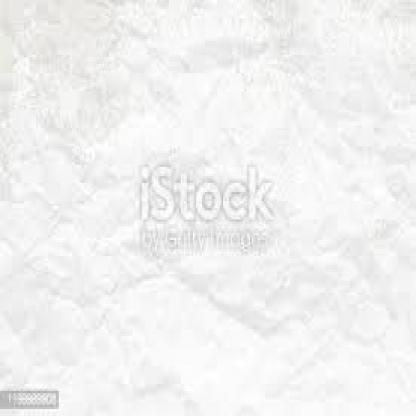paper: (0, 0, 415, 389)
